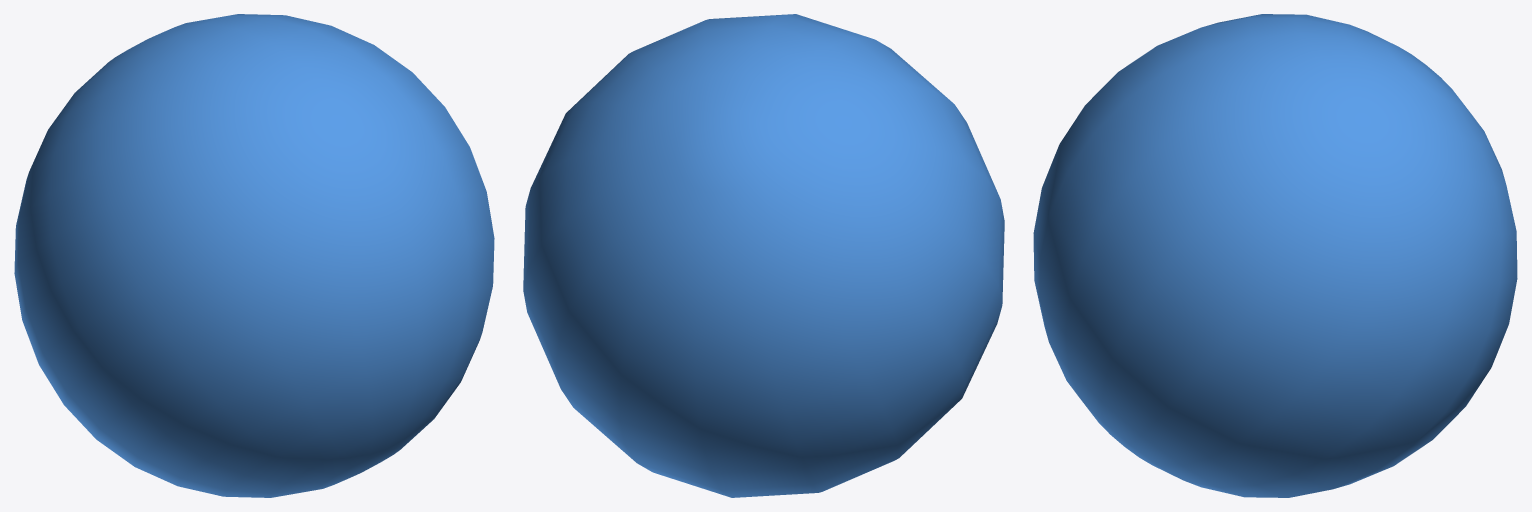
The picture shows the model from 3 angles, left to right: view 1: azimuth 30°, elevation 25°; view 2: azimuth 150°, elevation 25°; view 3: azimuth 270°, elevation 25°; orthographic projection.
Visible parts, largest first — view 1: orb6.002; view 2: orb6.002; view 3: orb6.002.
Part boxes in pixels (bbox=[...]): orb6.002: bbox=[14, 14, 494, 497]; orb6.002: bbox=[523, 14, 1004, 497]; orb6.002: bbox=[1033, 14, 1517, 497].
Bounding box in the file's own units: 0.3929 × 0.3982 × 0.3978.
